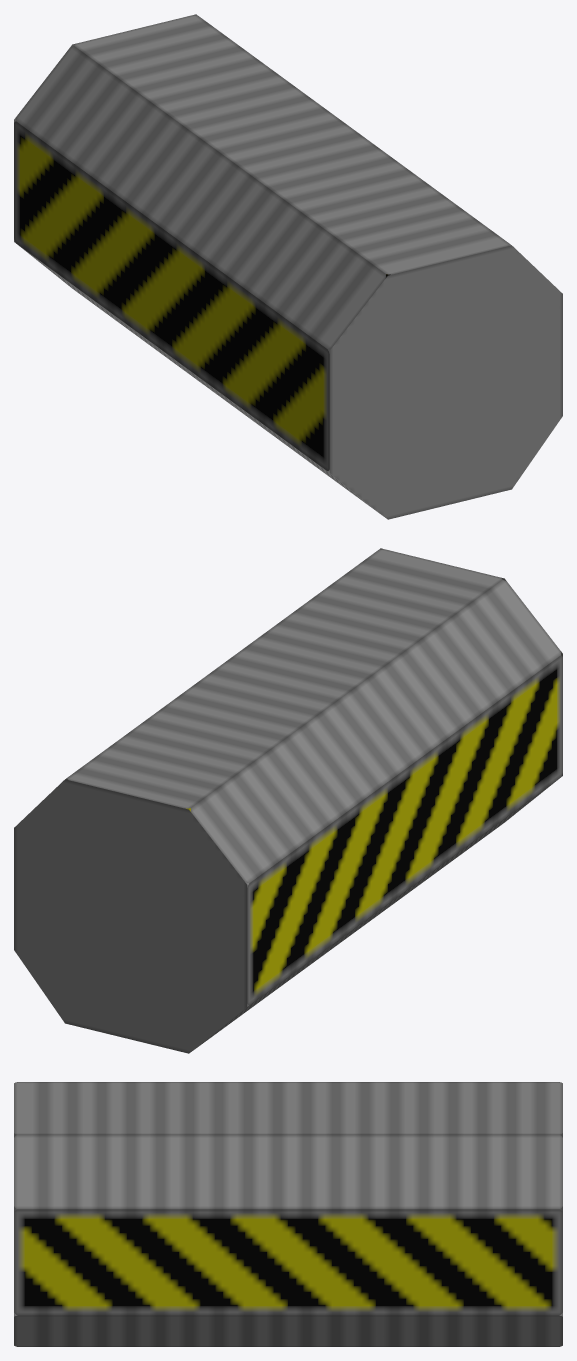
The model's file is PistonBody.fbx.
3 views of the same model, one above another, from view 1: azimuth 30°, elevation 25°; view 2: azimuth 150°, elevation 25°; view 3: azimuth 270°, elevation 25° (orthographic). The views are drawn at different scales.
Parts seen in each view (by area): view 1: Body; view 2: Body; view 3: Body.
Part boxes in pixels (bbox=[...]): Body: bbox=[14, 14, 562, 519]; Body: bbox=[14, 548, 562, 1053]; Body: bbox=[14, 1082, 562, 1346].
Bounding box in the file's own units: 200 × 200 × 469.
Materials: 1 (1 with a texture image).
